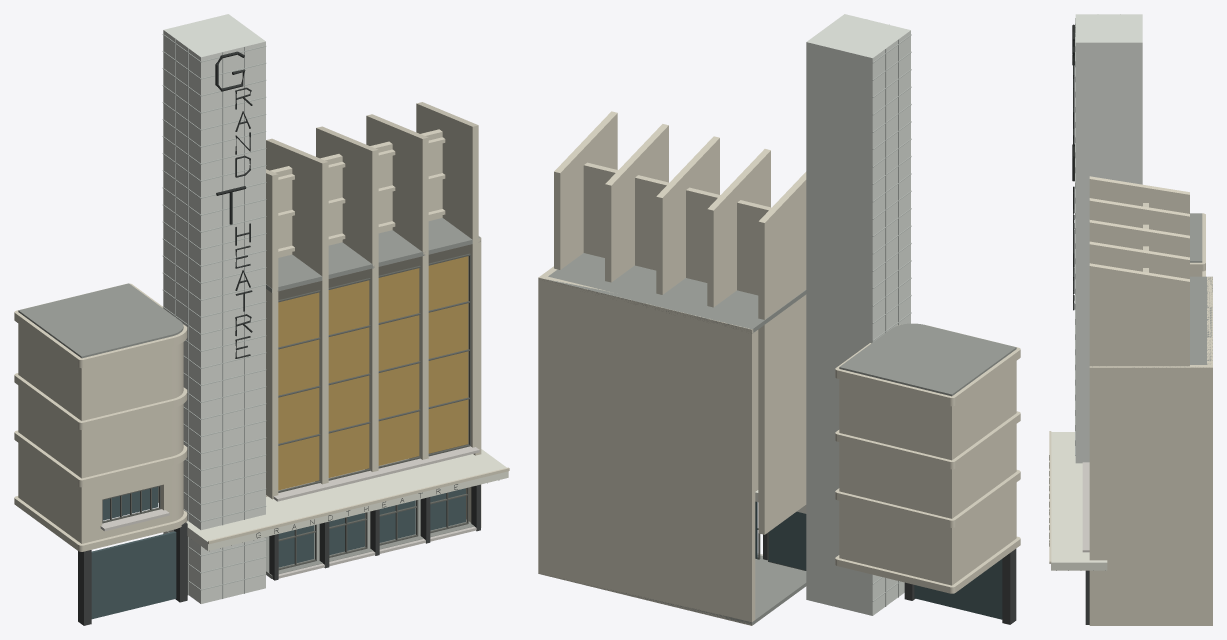
The model's file is huangpu-grand-theatre-web.glb.
3 views of the same model, side by side, from view 1: azimuth 30°, elevation 25°; view 2: azimuth 150°, elevation 25°; view 3: azimuth 270°, elevation 25° (orthographic). The views are drawn at different scales.
Visible parts, largest first — view 1: Grand Theatre street entrance and light tower exterior candi; view 2: Grand Theatre street entrance and light tower exterior candi; view 3: Grand Theatre street entrance and light tower exterior candi.
Boxes of the visible parts, box(x1,y1,x2,y2) form: Grand Theatre street entrance and light tower exterior candi: box(14, 14, 509, 625); Grand Theatre street entrance and light tower exterior candi: box(538, 14, 1020, 625); Grand Theatre street entrance and light tower exterior candi: box(1049, 14, 1212, 625).
Size of the model in its own units: 23.85 by 30.5 by 9.31.
